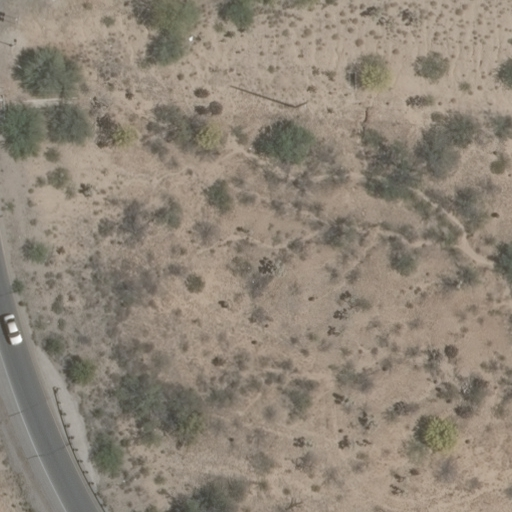DT: (288, 91, 312, 116)
